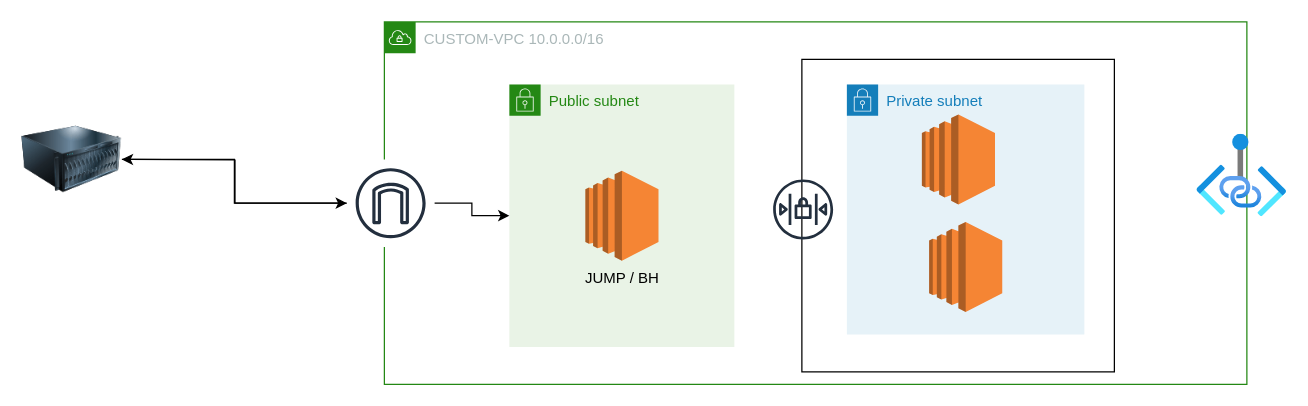
The diagram is 1308 pixels wide and 406 high, and some of its shapes have lost their labels. Here are the shapes that lost their labels. From the top down, the centre of each, then its label:
point (390, 202): Internet gateway
point (802, 209): Network access control list
